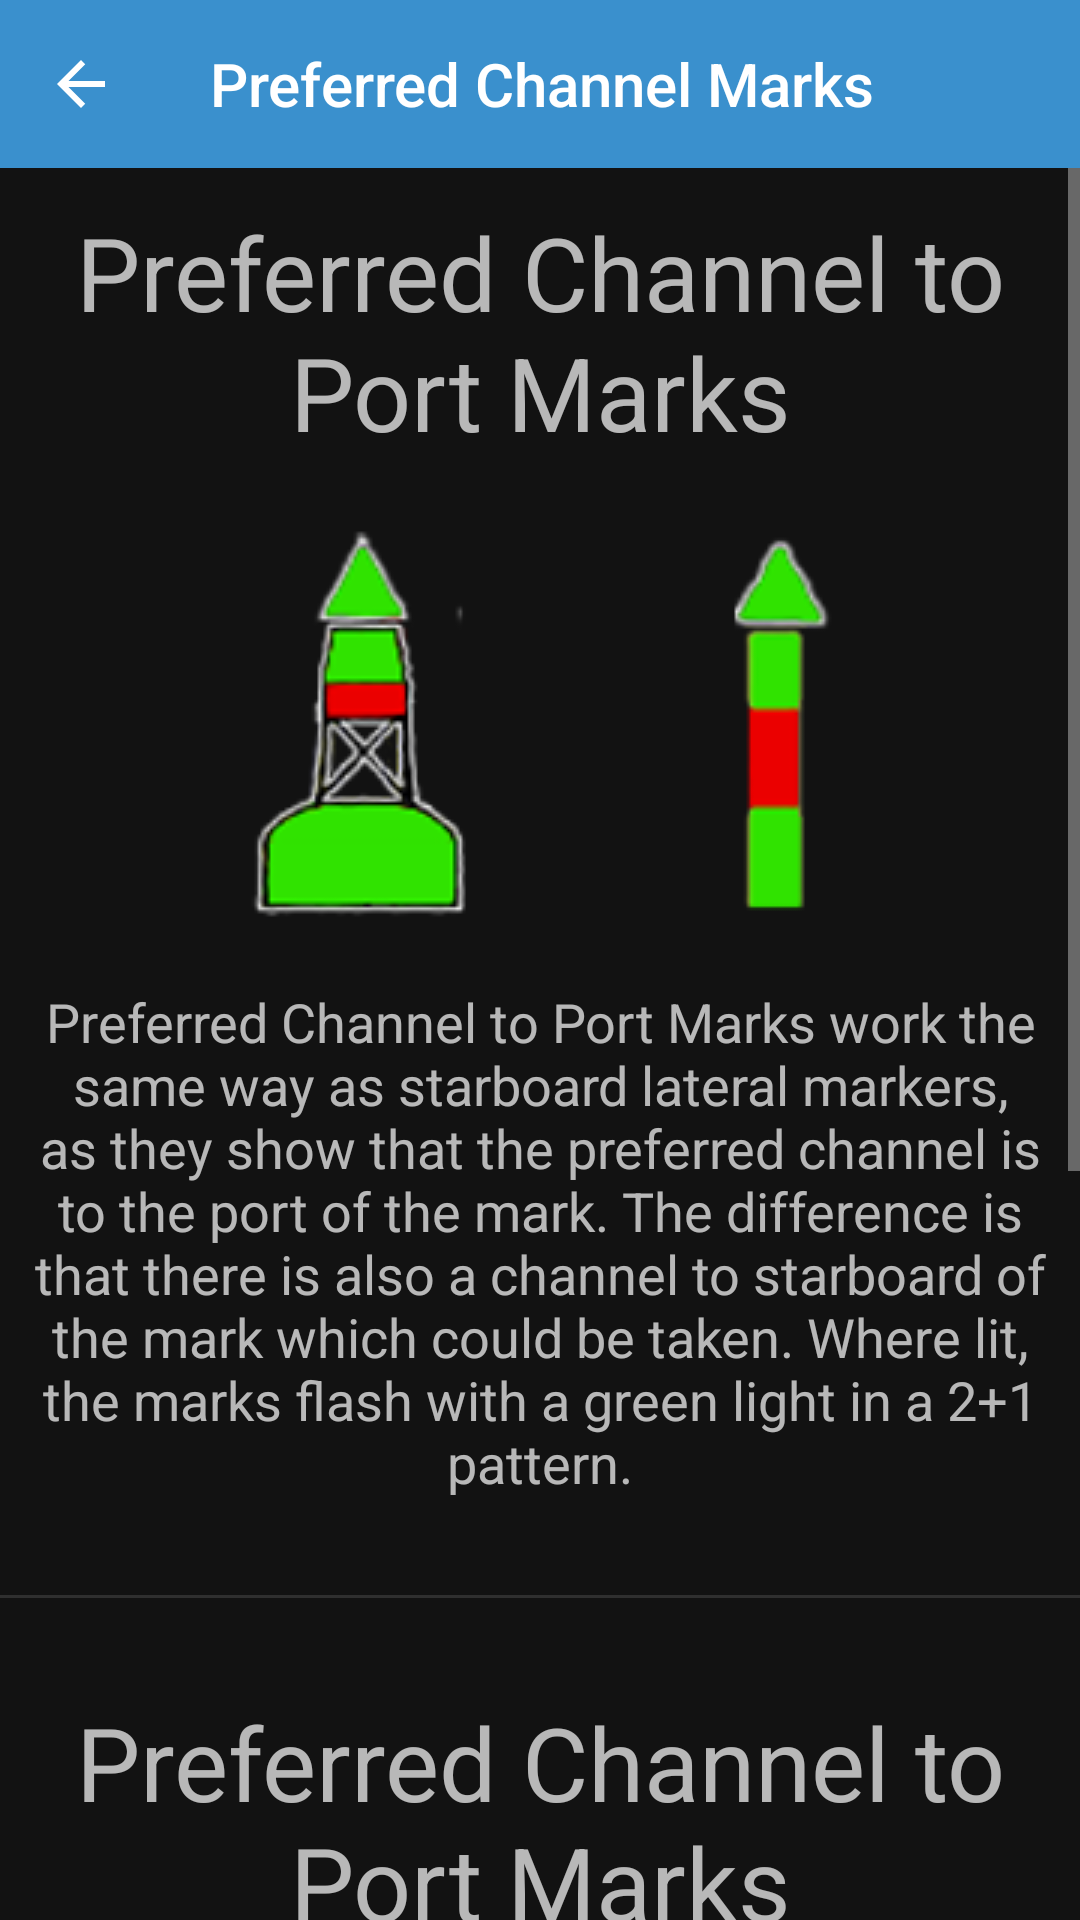

Screen size 1080 × 1920. Icon name, then its center in pixels as [x,y]:
arrow back: [81,84]
